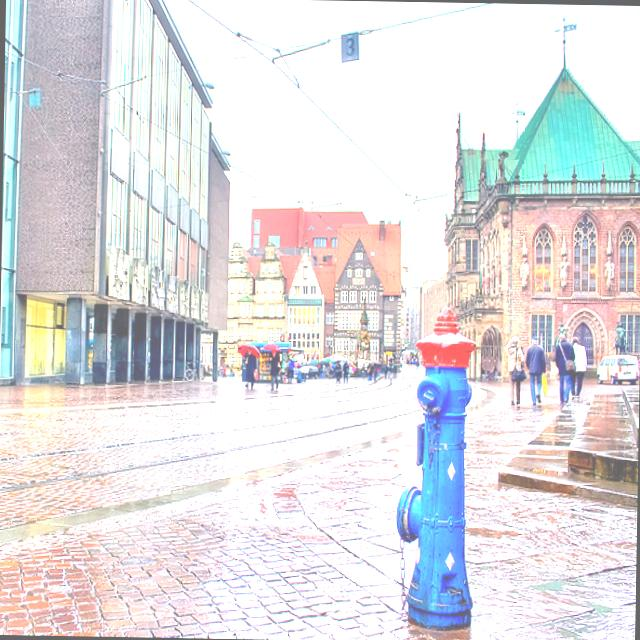Vehicle: (594, 352, 638, 386), (300, 365, 318, 379)
